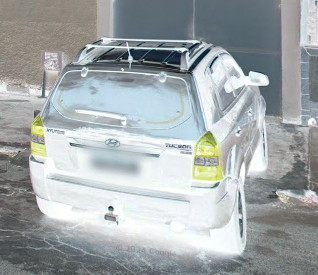car: (29, 38, 268, 257)
